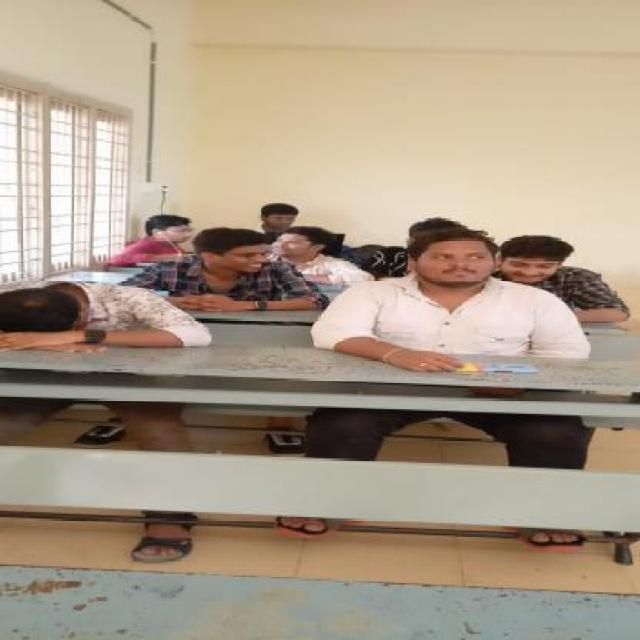cheating: (387, 217, 512, 304), (177, 217, 287, 286)
good: (2, 272, 217, 369)
